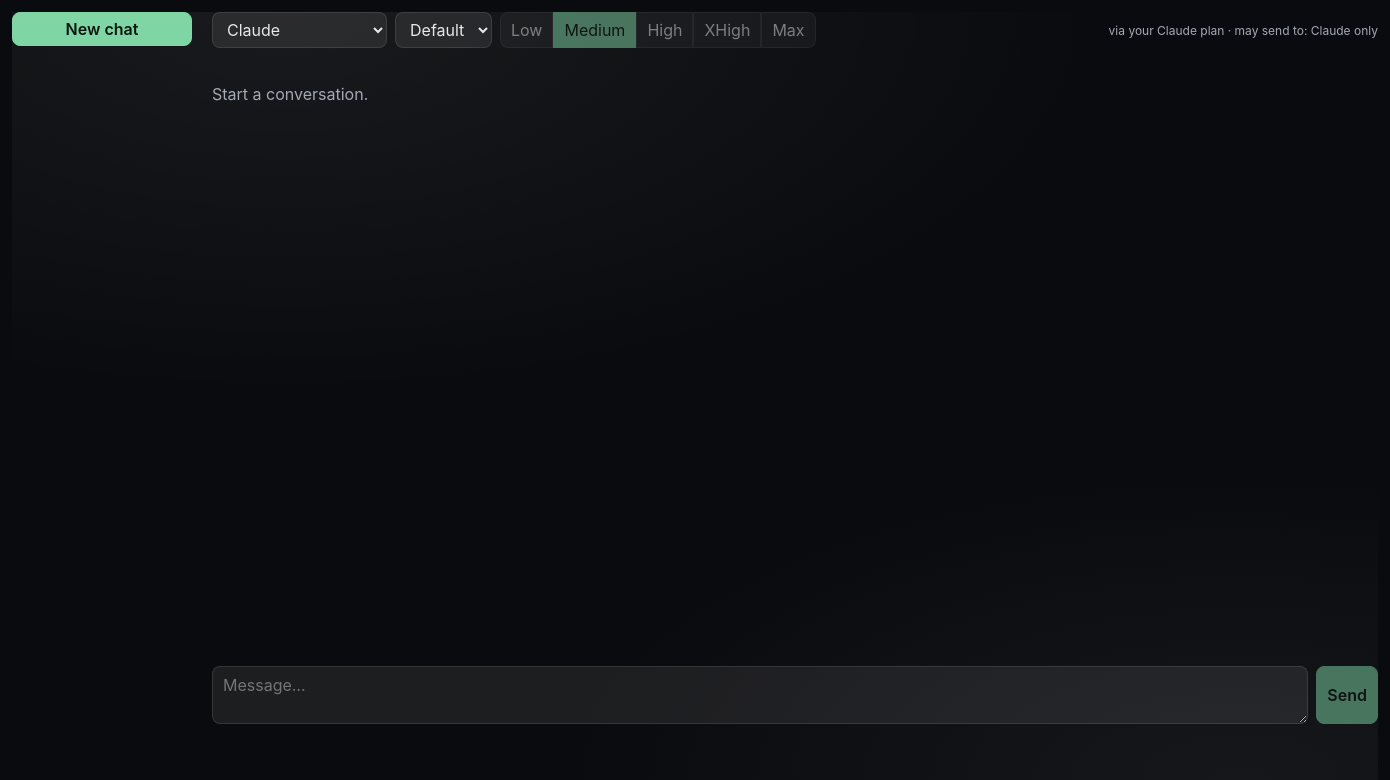
Test case: Chat › shows a refused send as a message instead of failing silently
The width and height of the screenshot is (1390, 780).
Step 1. Type "hi" into the text box labelled "Message" → (760, 695), box [212,666,1308,724]
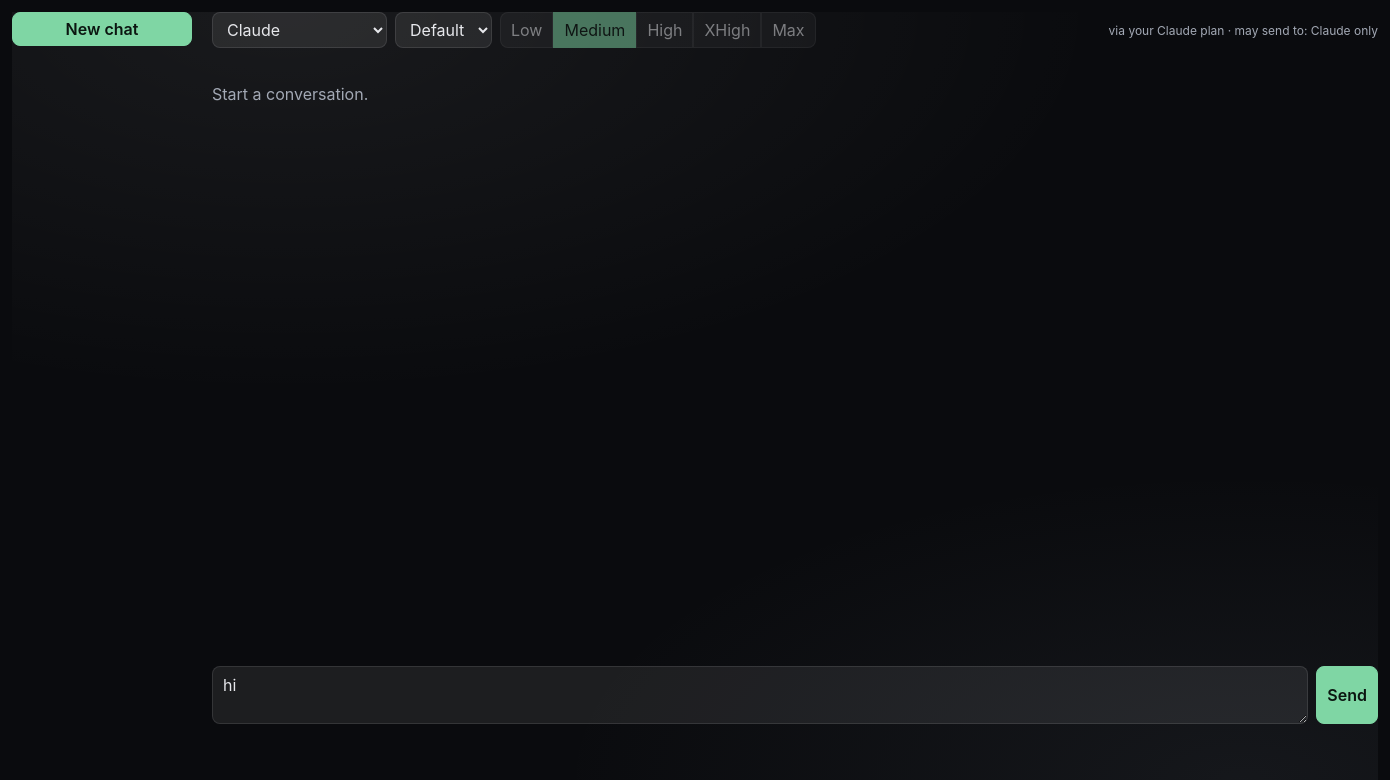
Step 2. Click the button "Send" → (1347, 695), box [1316,666,1378,724]
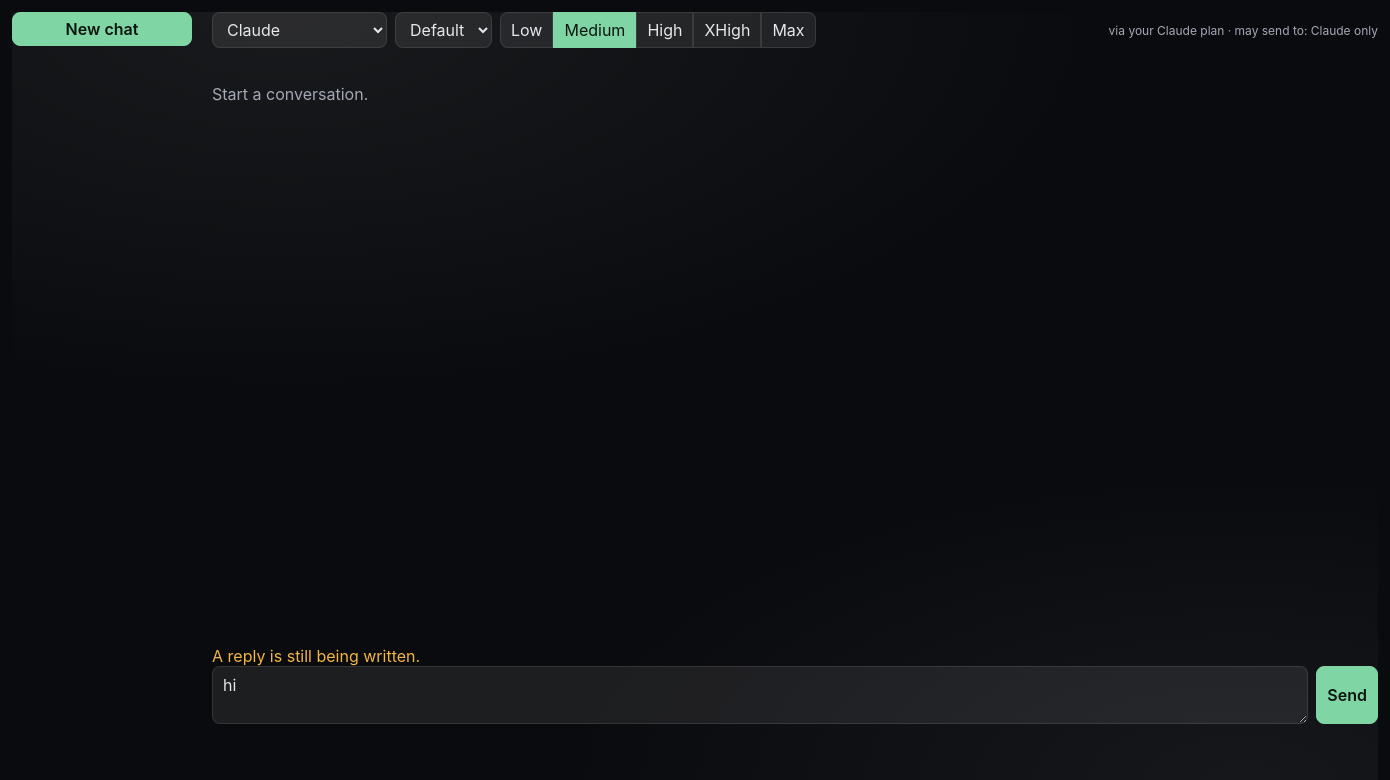
Result: the message shows "still being written" at [212,646,420,666]
